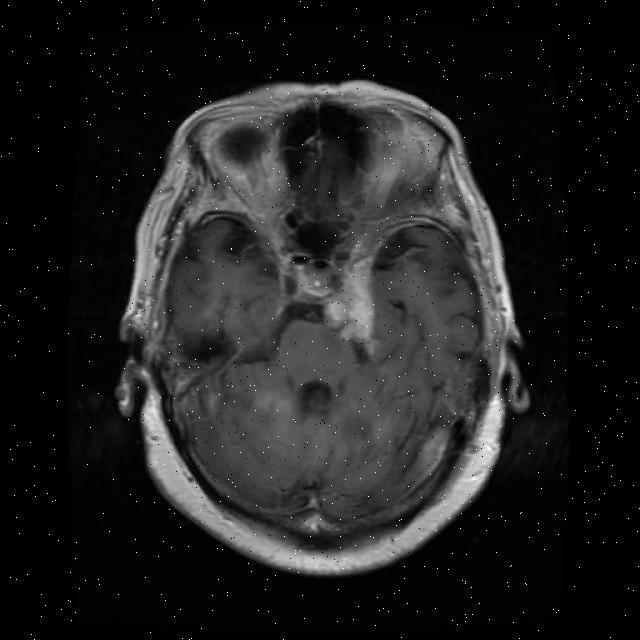Meningioma: (322, 256, 374, 353)
